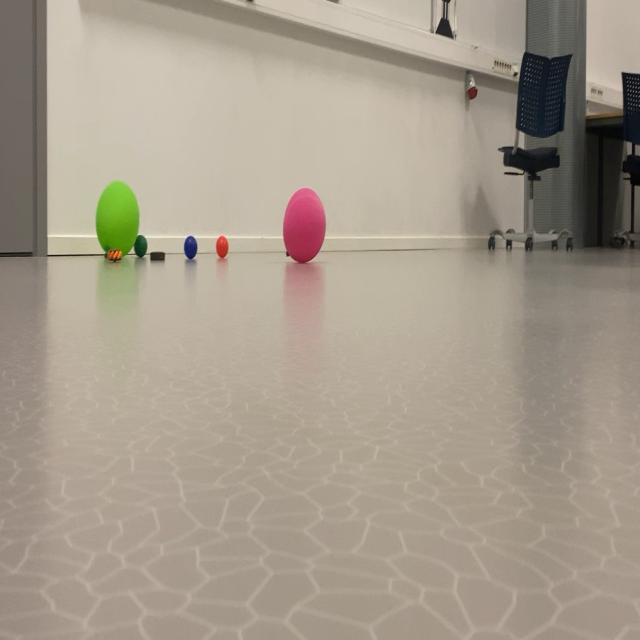7: (212, 234, 237, 272)
green ball: (183, 227, 205, 274)
red ball: (132, 228, 150, 267)
